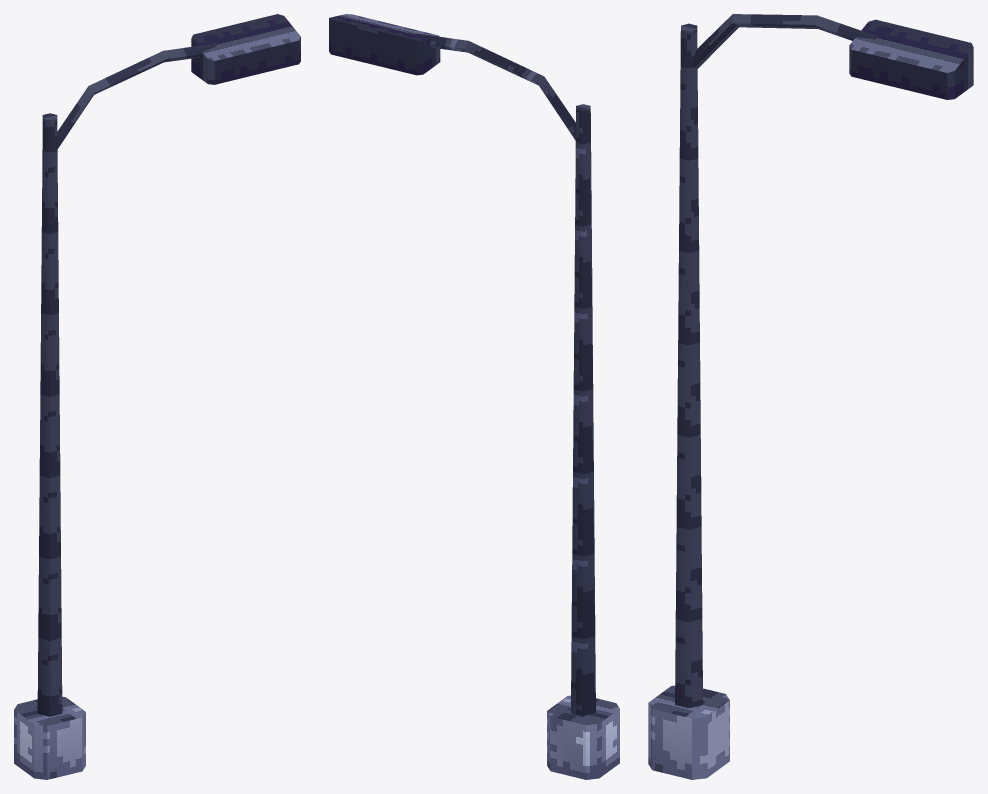
File: cytech.street_light.glb
3 views of the same model, side by side, from view 1: azimuth 30°, elevation 25°; view 2: azimuth 150°, elevation 25°; view 3: azimuth 330°, elevation 25° (orthographic). The views are drawn at different scales.
Parts seen in each view (by area): view 1: kit_pole; view 2: kit_pole; view 3: kit_pole.
Part boxes in pixels (x1=…): kit_pole: x1=14, y1=14, x2=300, y2=779; kit_pole: x1=329, y1=14, x2=619, y2=779; kit_pole: x1=648, y1=14, x2=973, y2=779.
Size of the model in its own units: 2.6 by 6.35 by 0.5.
5 materials, 5 textured.
